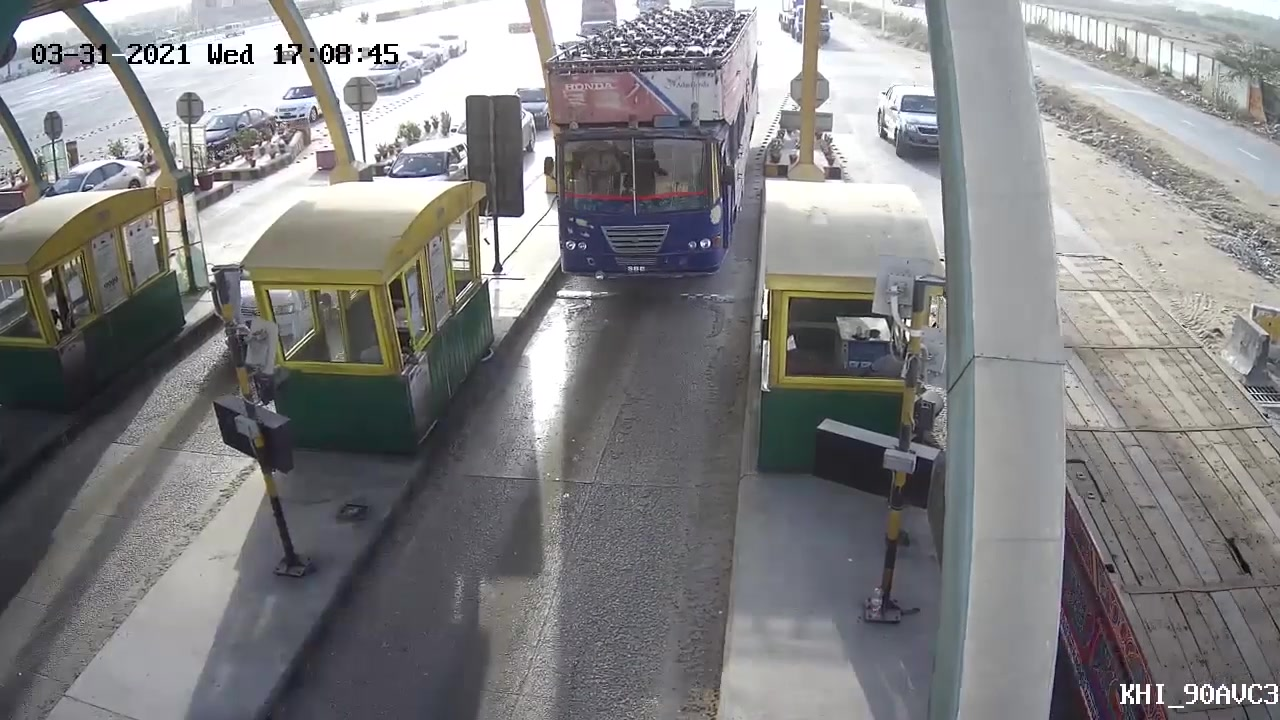F5: (533, 1, 766, 296)
